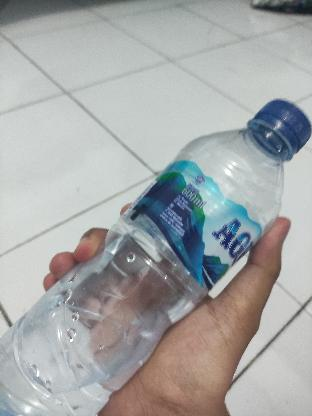Plastic Bottle: (0, 56, 312, 416)
